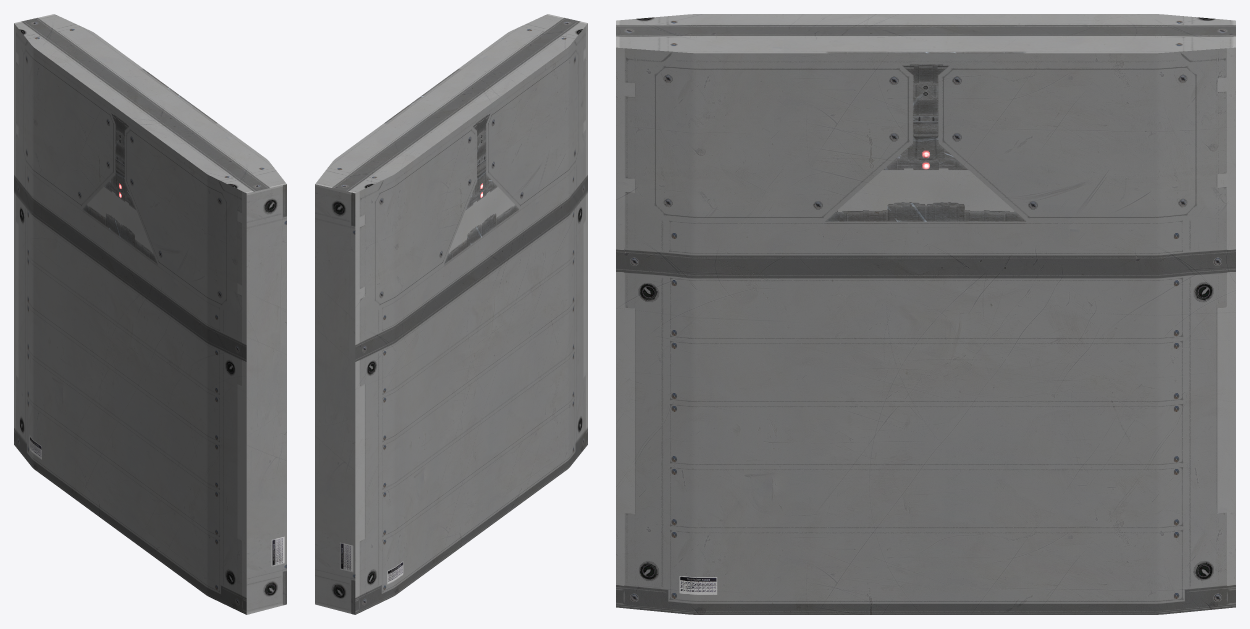
The model's file is SM_WallType1e.fbx.
The picture shows the model from 3 angles, left to right: view 1: azimuth 30°, elevation 25°; view 2: azimuth 150°, elevation 25°; view 3: azimuth 270°, elevation 25°; orthographic projection. The views are drawn at different scales.
Visible parts, largest first — view 1: SM_WallType1e_LOD0; view 2: SM_WallType1e_LOD0; view 3: SM_WallType1e_LOD0.
Boxes of the visible parts, bbox=[...] form: SM_WallType1e_LOD0: bbox=[14, 14, 286, 614]; SM_WallType1e_LOD0: bbox=[315, 14, 587, 614]; SM_WallType1e_LOD0: bbox=[616, 14, 1235, 614].
Size of the model in its own units: 60 by 400 by 400.
1 material, 1 textured.
